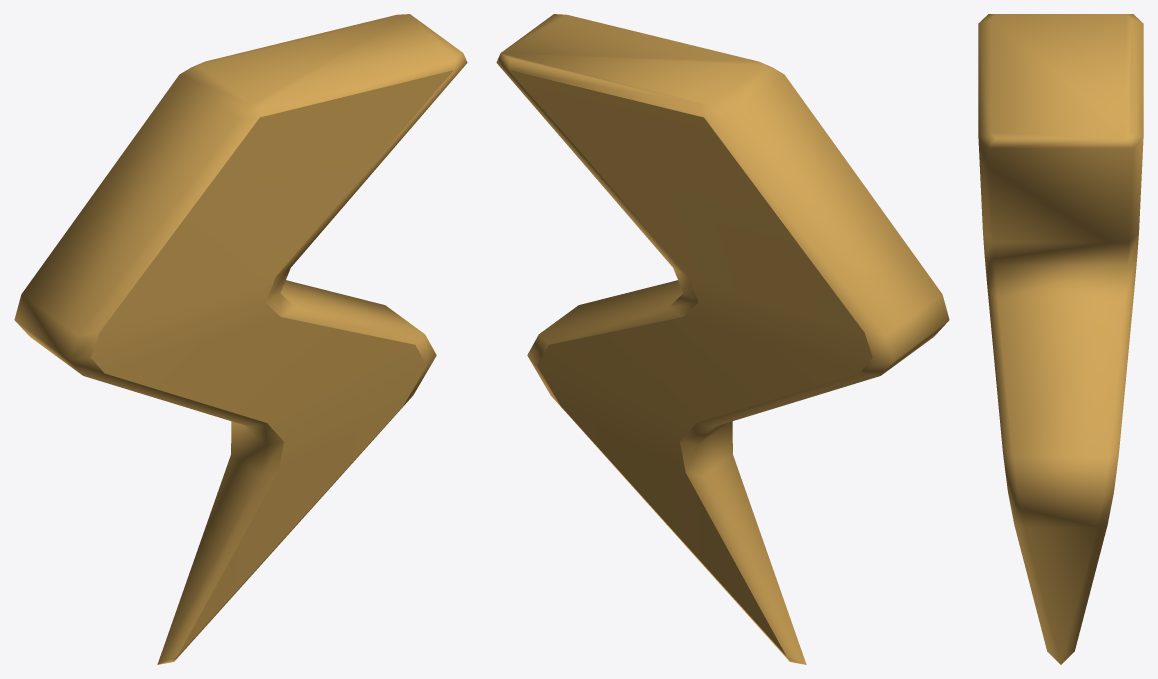
Rendered from Thunder.fbx.
3 renders of one model, left to right at view 1: azimuth 30°, elevation 25°; view 2: azimuth 150°, elevation 25°; view 3: azimuth 270°, elevation 25°, orthographic. The views are drawn at different scales.
Visible parts, largest first — view 1: Thunder; view 2: Thunder; view 3: Thunder.
Part boxes in pixels (box(x1,y1,x2,y2)): Thunder: box(14, 14, 467, 664); Thunder: box(496, 14, 949, 664); Thunder: box(978, 14, 1143, 664).
Bounding box in the file's own units: 117 × 159 × 35.02.
